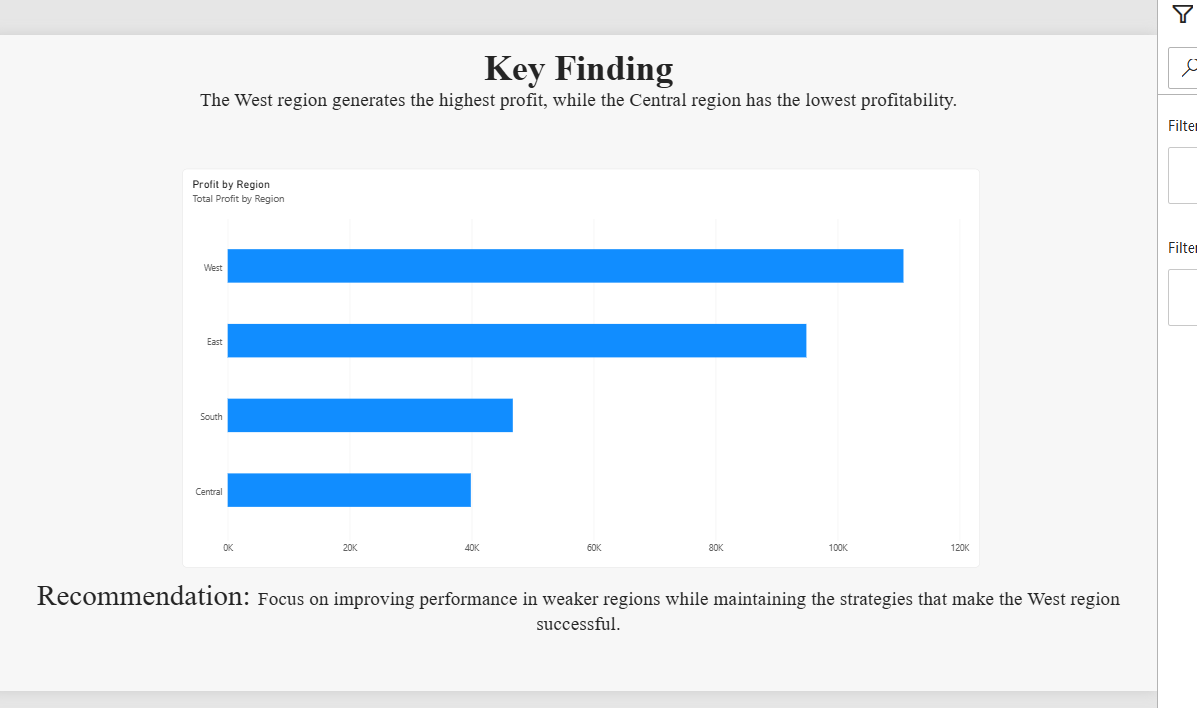

The dashboard page shown, as its layout file describes it:
{"tool":"powerbi","page":{"name":"Regional Analysis","canvas":[1920,1080],"ordinal":1},"visuals":[{"type":"clusteredBarChart","title":"Profit by Region","fields":{"Category":["Orders.Region"],"Y":["Orders.Total Profit"]},"box":[314.9,220.2,1313.2,656.6],"z":0},{"type":"textbox","box":[67.9,20.6,1799,148.2],"z":1000},{"type":"textbox","box":[68,894.5,1799,150],"z":2000}]}

Visuals, with their boxes on the page's 1920x1080 design canvas (x1, y1, x2, y2). These are canvas units, not pixel positions in the 1197x708 screenshot, which may show the page scaled, cropped or inside an application window:
"Profit by Region" clusteredBarChart: detection(315, 220, 1628, 877)
textbox: detection(68, 21, 1867, 169)
textbox: detection(68, 894, 1867, 1044)
